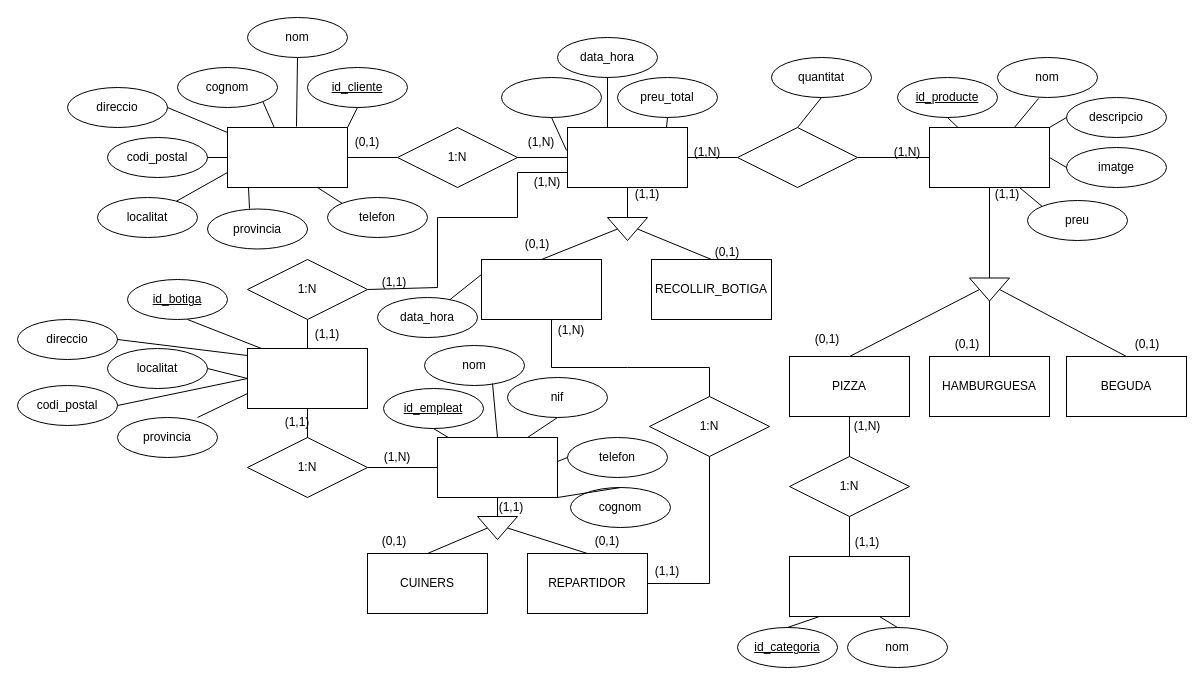
Some shapes in this 1204 by 685 pixel diagram are drawn without their labels. The box of each missing label's shape, as (x1, y1, x2, y2) in pixels:
A_DOMICILI: (480, 258, 602, 320)
BOTIGA: (246, 348, 368, 408)
CATEGORIA: (788, 556, 910, 616)
CLIENT: (226, 126, 348, 188)
COMANDA: (566, 126, 688, 188)
EMPLEATS: (436, 436, 558, 498)
id_comanda: (500, 76, 602, 118)
M:N: (736, 126, 858, 188)
PRODUCTES: (928, 126, 1050, 188)
